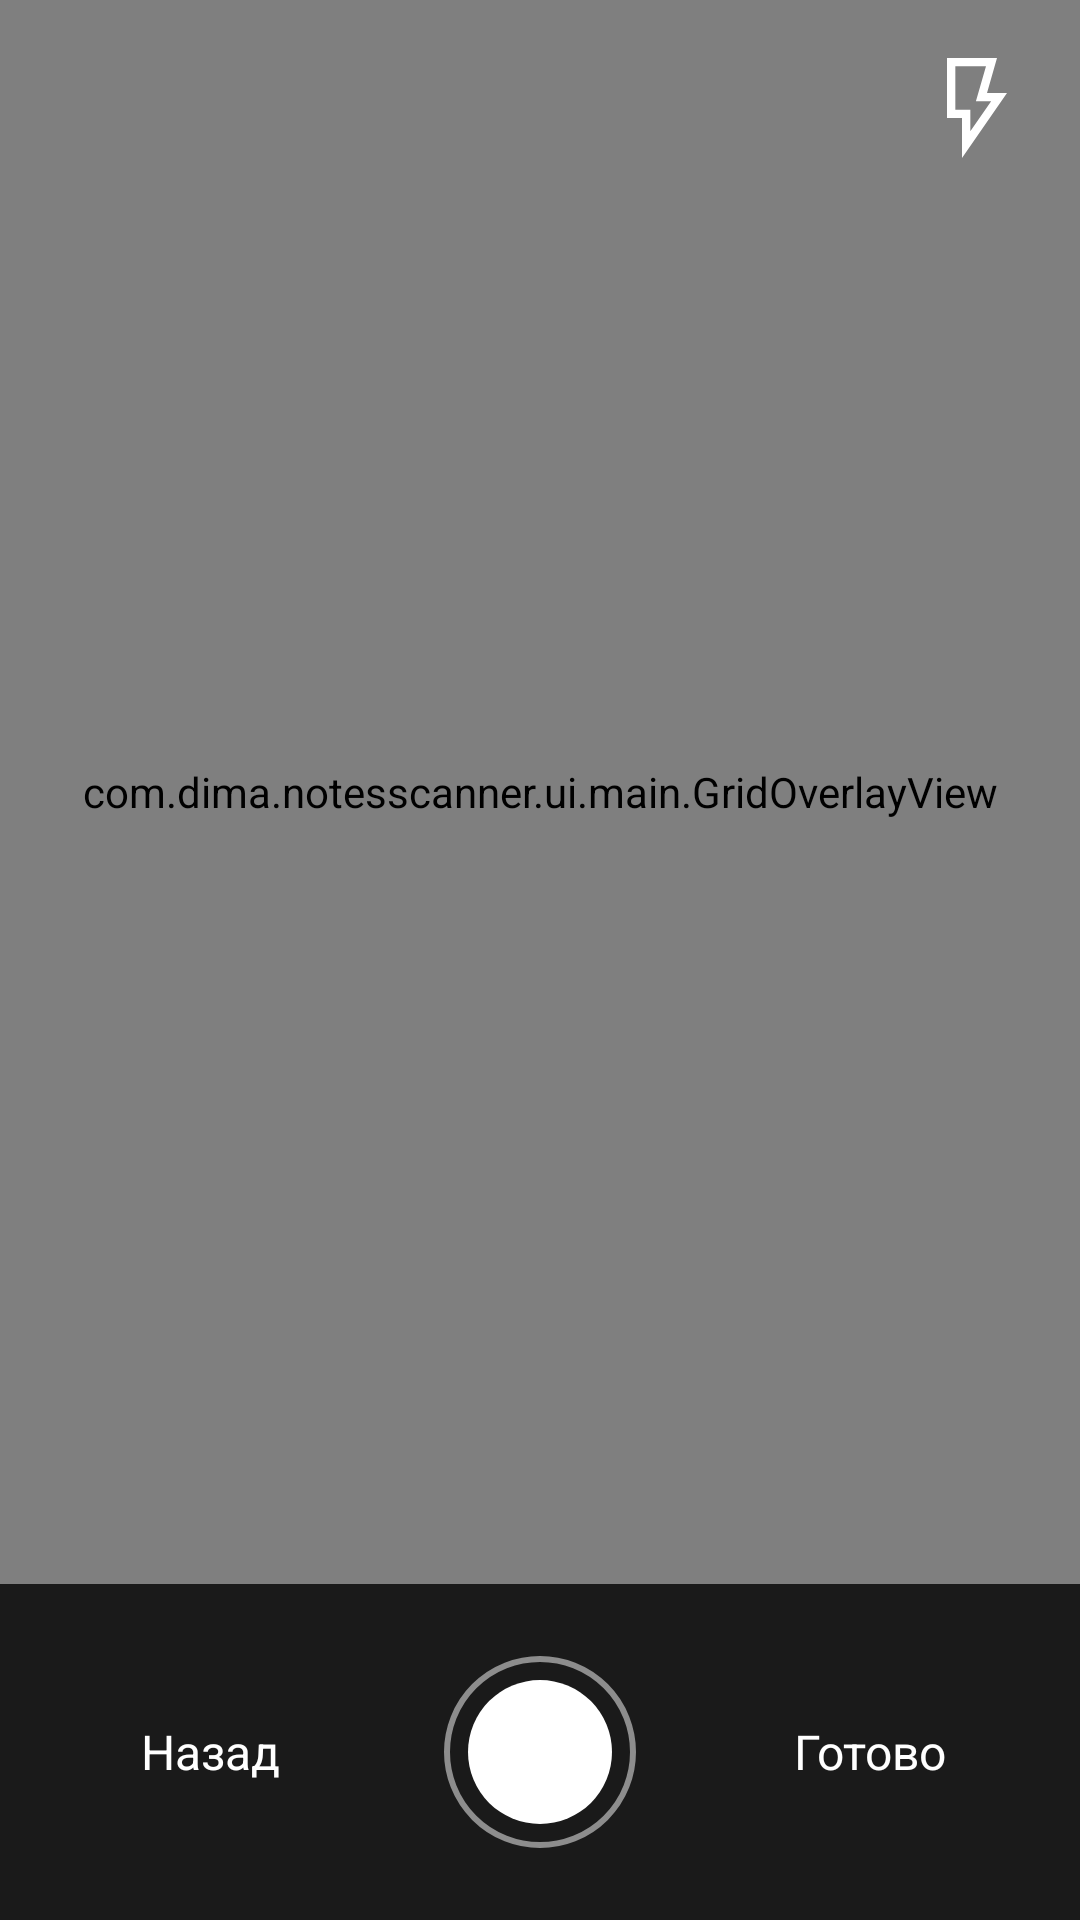

Icons on this 1080px×1920px Android screen, each with the point to tap as point (x, y):
Flash: point (977, 108)
